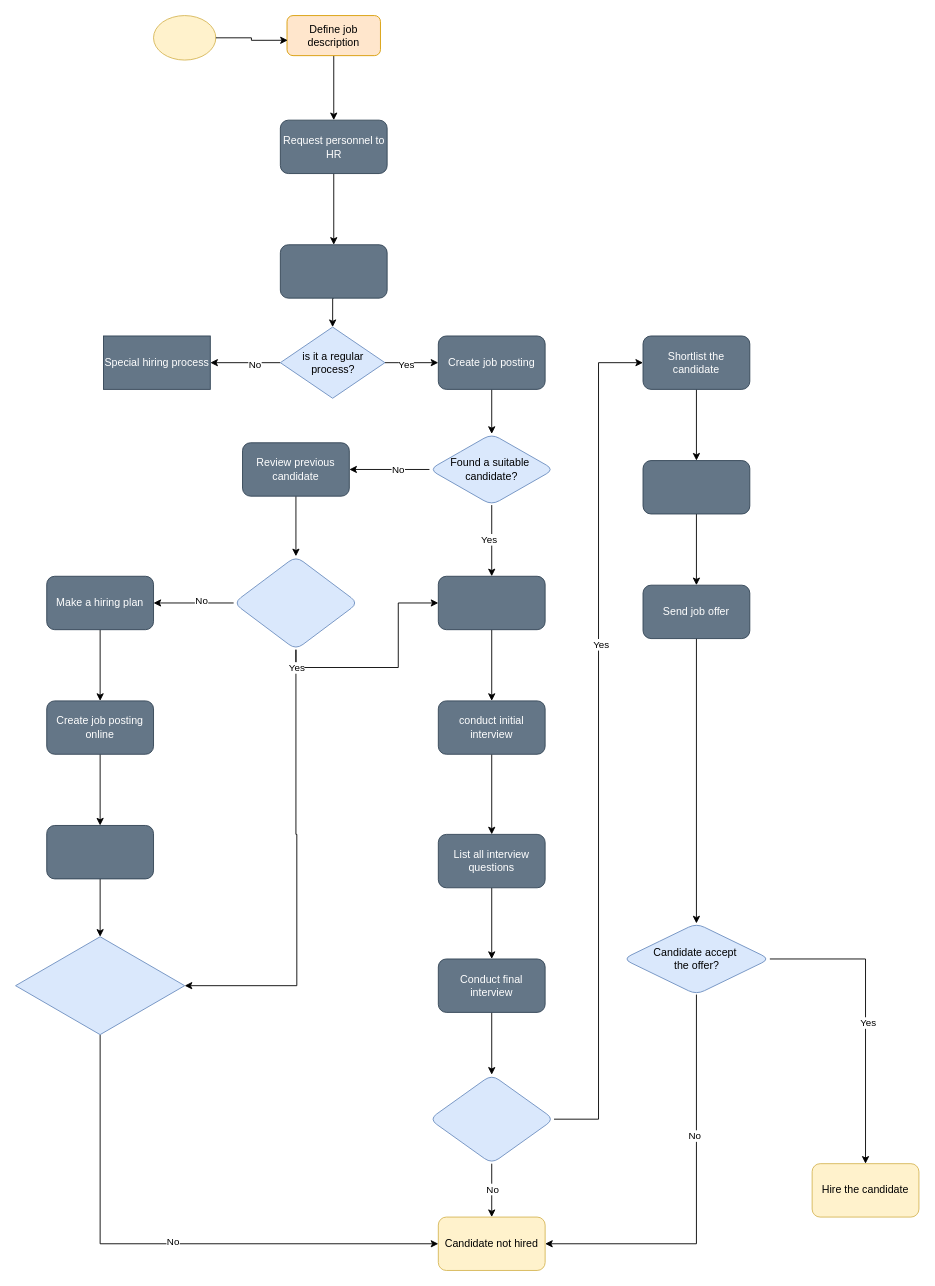
This 935x1286 diagram has some shape labels left out. The shapes that lost their labels are listed below. From the top down, each one's centre as x and y in pixels, then its label:
At (184,37): "Start".
At (333,271): "Classify job".
At (696,487): "Finalize job rate".
At (295,602): "is the candidate suitable for the job?".
At (491,602): "Setup a meeting with candidate".
At (100,852): "Collect submitted resumes".
At (100,985): "is the candidate QUALIFIED?".
At (491,1119): "Reference checked".
